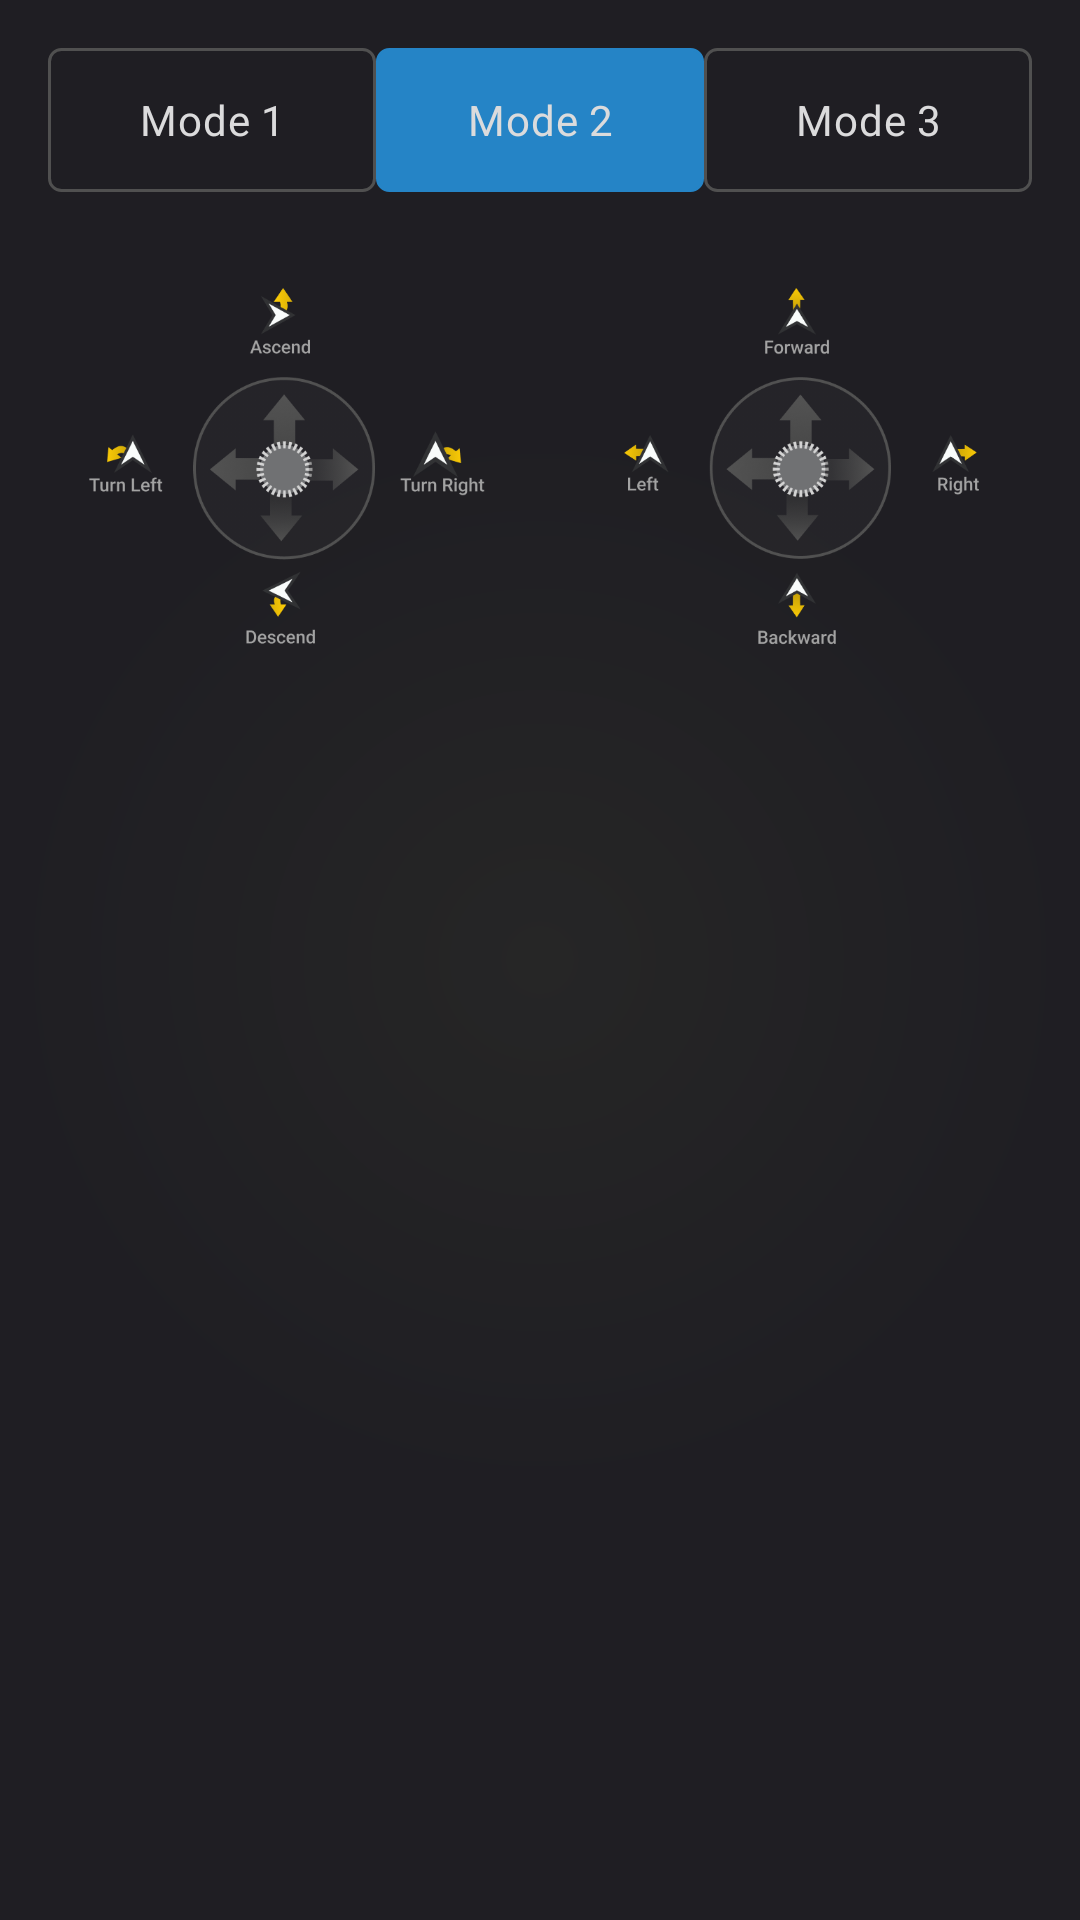

Where icons sit on this 1080w x 1920h app screen, as (x1,y1,x2,y2):
Right Stick: (624,288,979,644)
